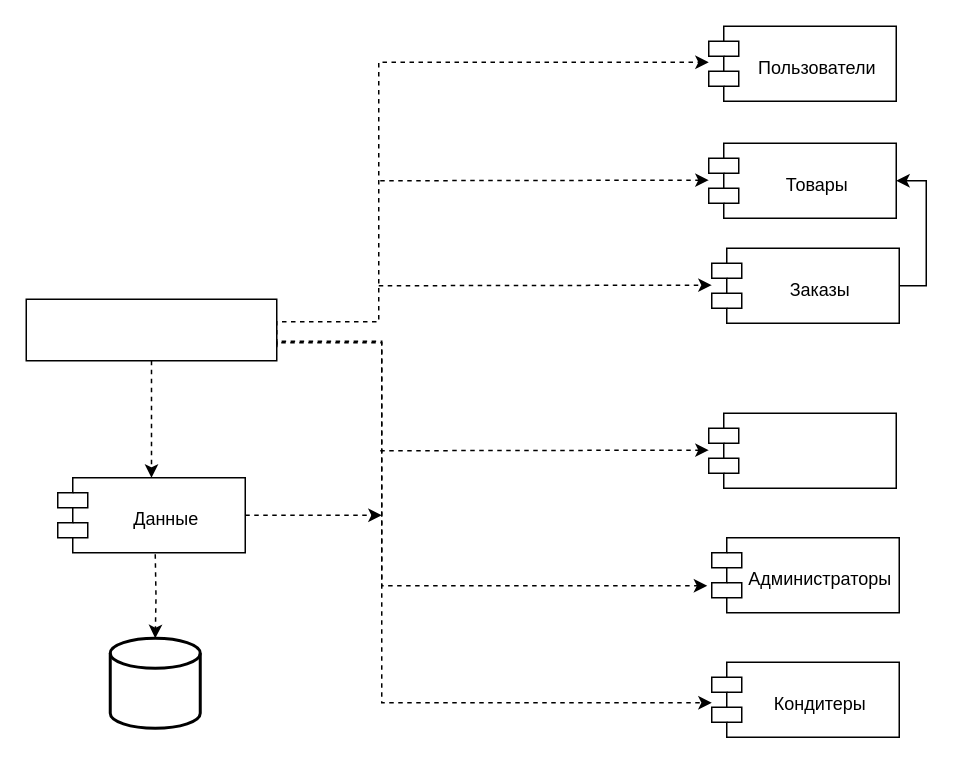
Some shapes in this 965 by 764 pixel diagram are drawn without their labels. Each missing label, with the box of its shape:
БД: (108, 636, 201, 729)
Интернет-магазин "Сладости": (25, 298, 277, 361)
Курьеры: (707, 412, 896, 488)
